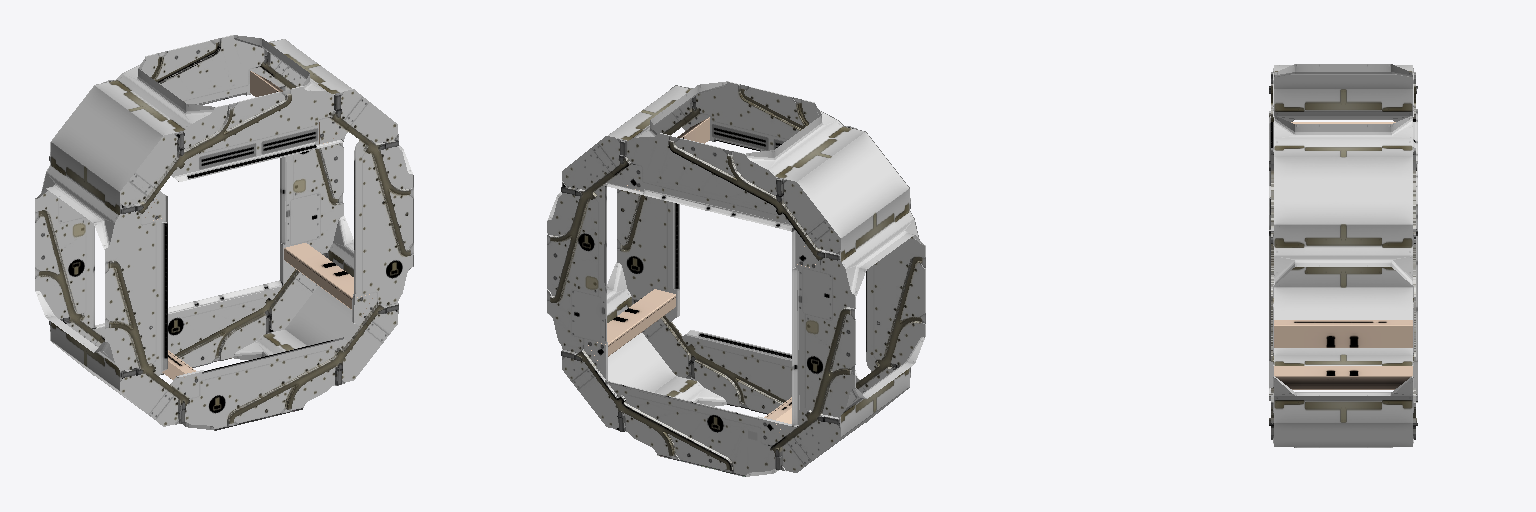
3 renders of one model, left to right at view 1: azimuth 30°, elevation 25°; view 2: azimuth 150°, elevation 25°; view 3: azimuth 270°, elevation 25°, orthographic.
Size of the model in its own units: 3.54 by 3.54 by 2.73.
Materials: 1 (1 with a texture image).